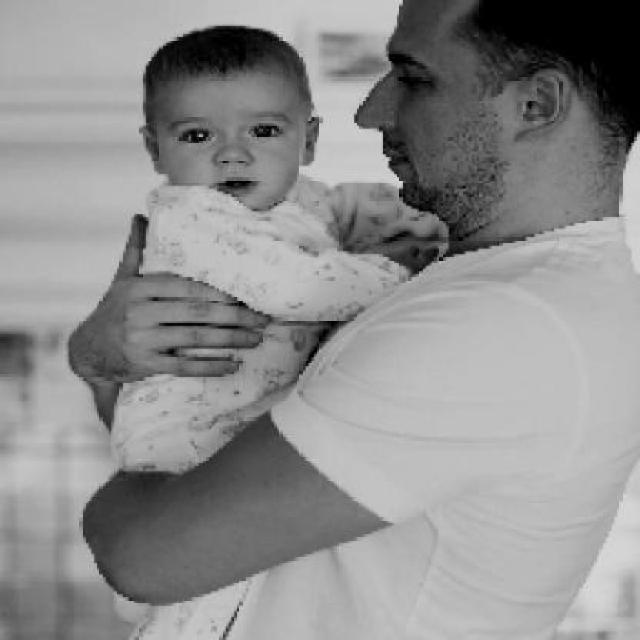child: (109, 22, 398, 638)
